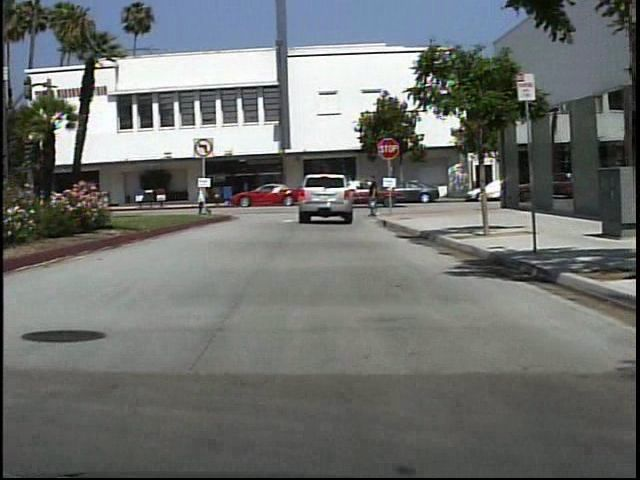person: (189, 176, 219, 218), (365, 174, 389, 218), (247, 178, 248, 203)
